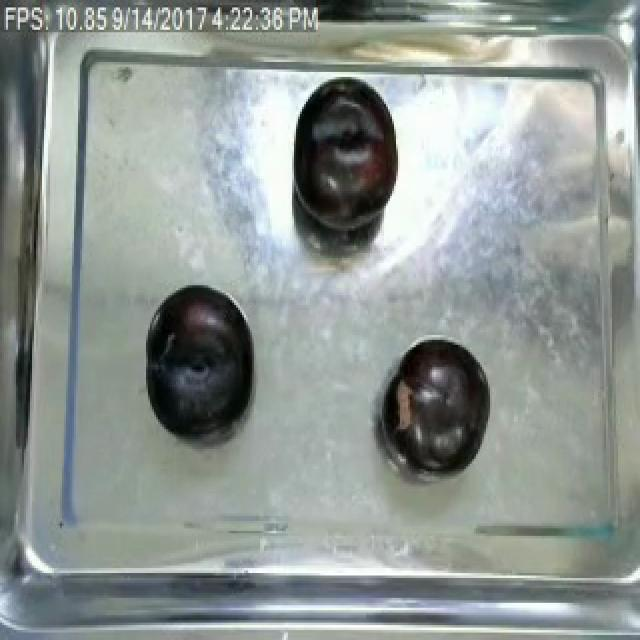Fruit: (142, 278, 258, 441), (290, 79, 402, 231), (384, 332, 494, 474)
